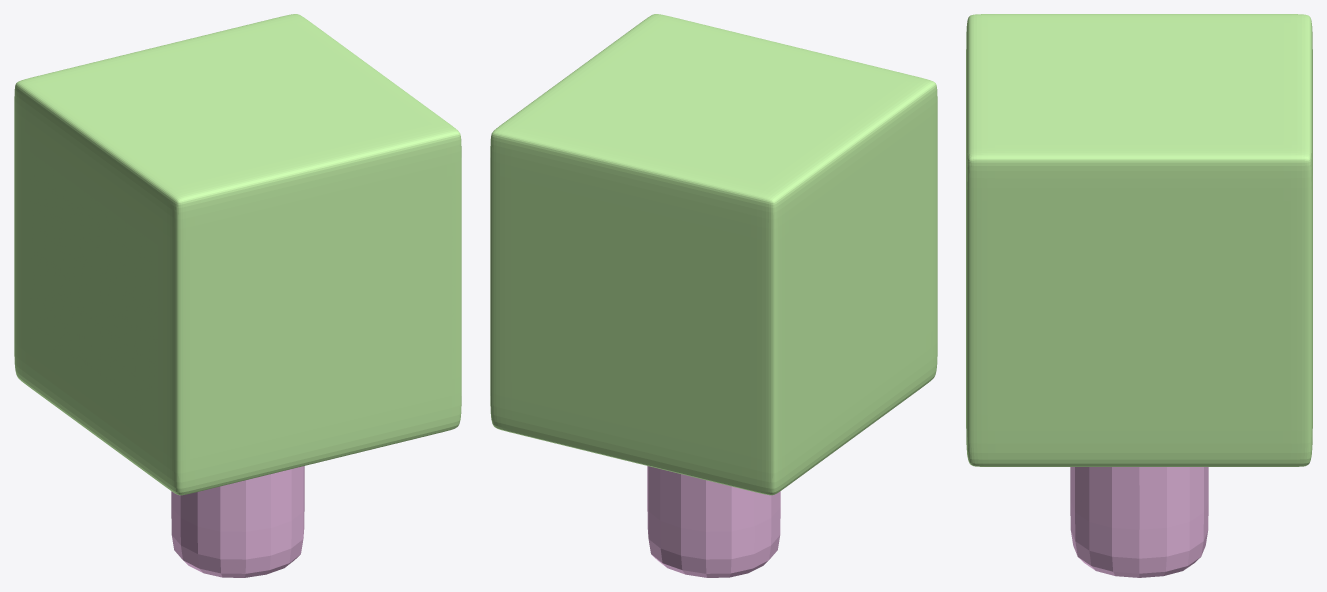
Rendered from tree.glb.
The picture shows the model from 3 angles, left to right: view 1: azimuth 30°, elevation 25°; view 2: azimuth 150°, elevation 25°; view 3: azimuth 270°, elevation 25°; orthographic projection. The views are drawn at different scales.
Visible parts, largest first — view 1: Cube, 立方体; view 2: Cube, 立方体; view 3: Cube, 立方体.
Boxes of the visible parts, x1=… form: Cube: x1=14, y1=14, x2=461, y2=495; 立方体: x1=171, y1=466, x2=304, y2=577; Cube: x1=490, y1=14, x2=937, y2=495; 立方体: x1=647, y1=466, x2=780, y2=577; Cube: x1=966, y1=14, x2=1312, y2=466; 立方体: x1=1070, y1=467, x2=1208, y2=577.
Bounding box in the file's own units: 0.4759 × 0.7156 × 0.4759.
